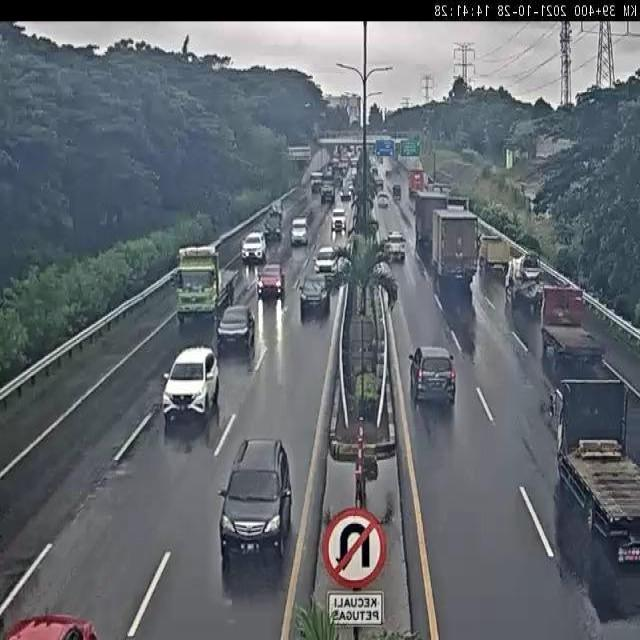Car: (218, 435, 294, 571), (156, 346, 218, 426), (410, 342, 457, 419), (215, 301, 256, 355), (299, 274, 332, 316), (259, 264, 284, 304), (384, 229, 408, 264), (312, 245, 341, 271), (240, 233, 264, 264), (328, 207, 348, 237), (376, 195, 392, 210)
Truck: (545, 380, 640, 579), (533, 285, 610, 367), (174, 235, 239, 330), (432, 207, 478, 283), (504, 257, 546, 311), (480, 234, 509, 270)
Van: (289, 216, 311, 248)
